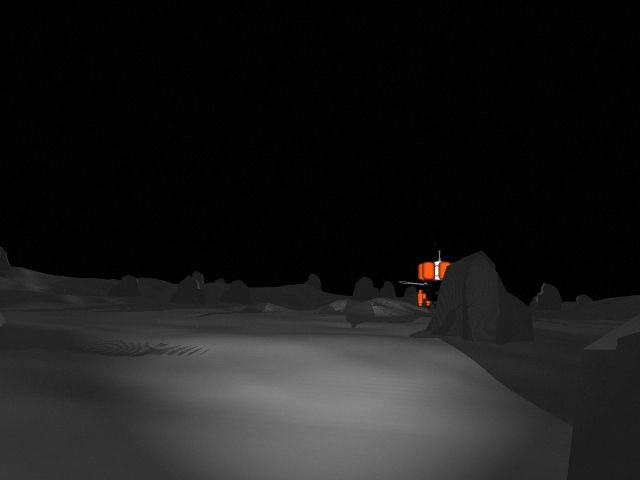homebase: (396, 245, 483, 310)
